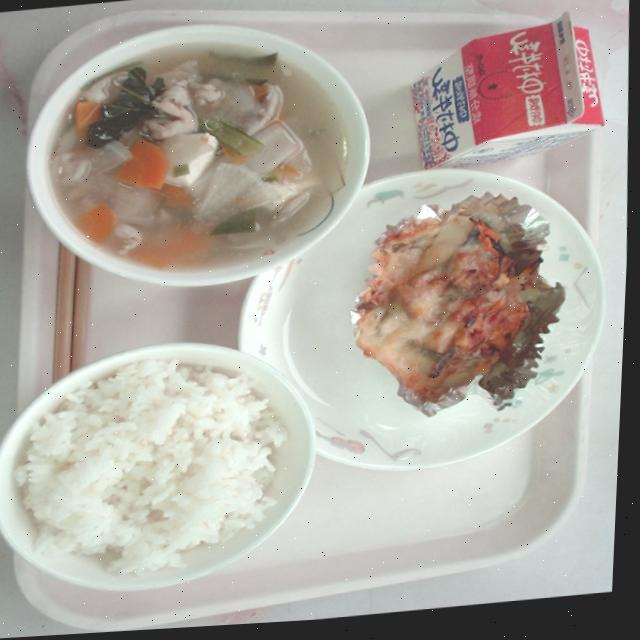米饭主食: (0, 325, 335, 622)
蔬菜料理: (36, 12, 380, 290)
